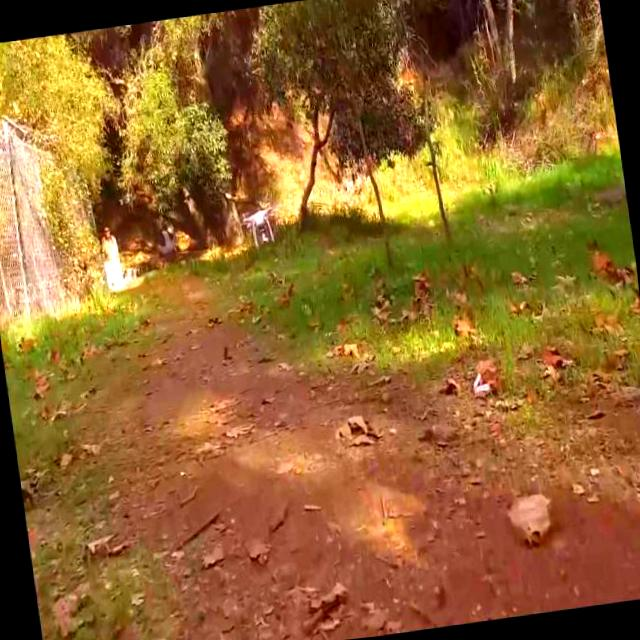drone: (232, 201, 284, 250)
